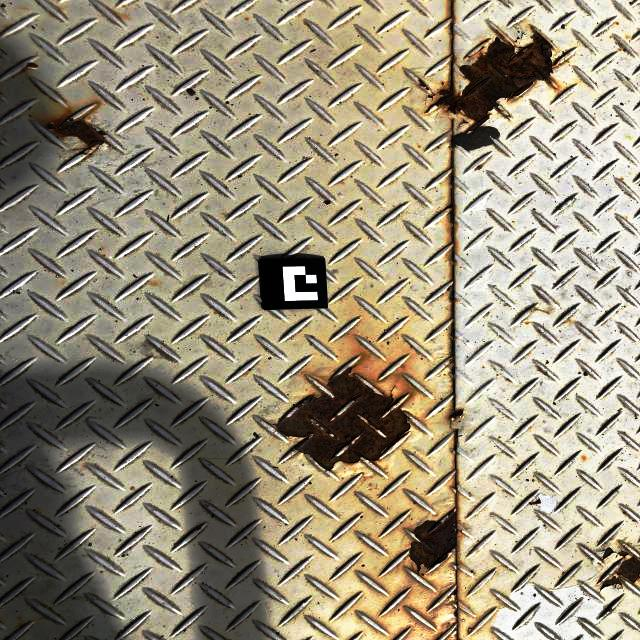Corrosion: (277, 368, 410, 471), (426, 27, 553, 134), (44, 107, 105, 160), (409, 508, 457, 575), (599, 557, 640, 592), (602, 547, 629, 560), (447, 408, 467, 424), (452, 609, 458, 619), (452, 588, 458, 597)
